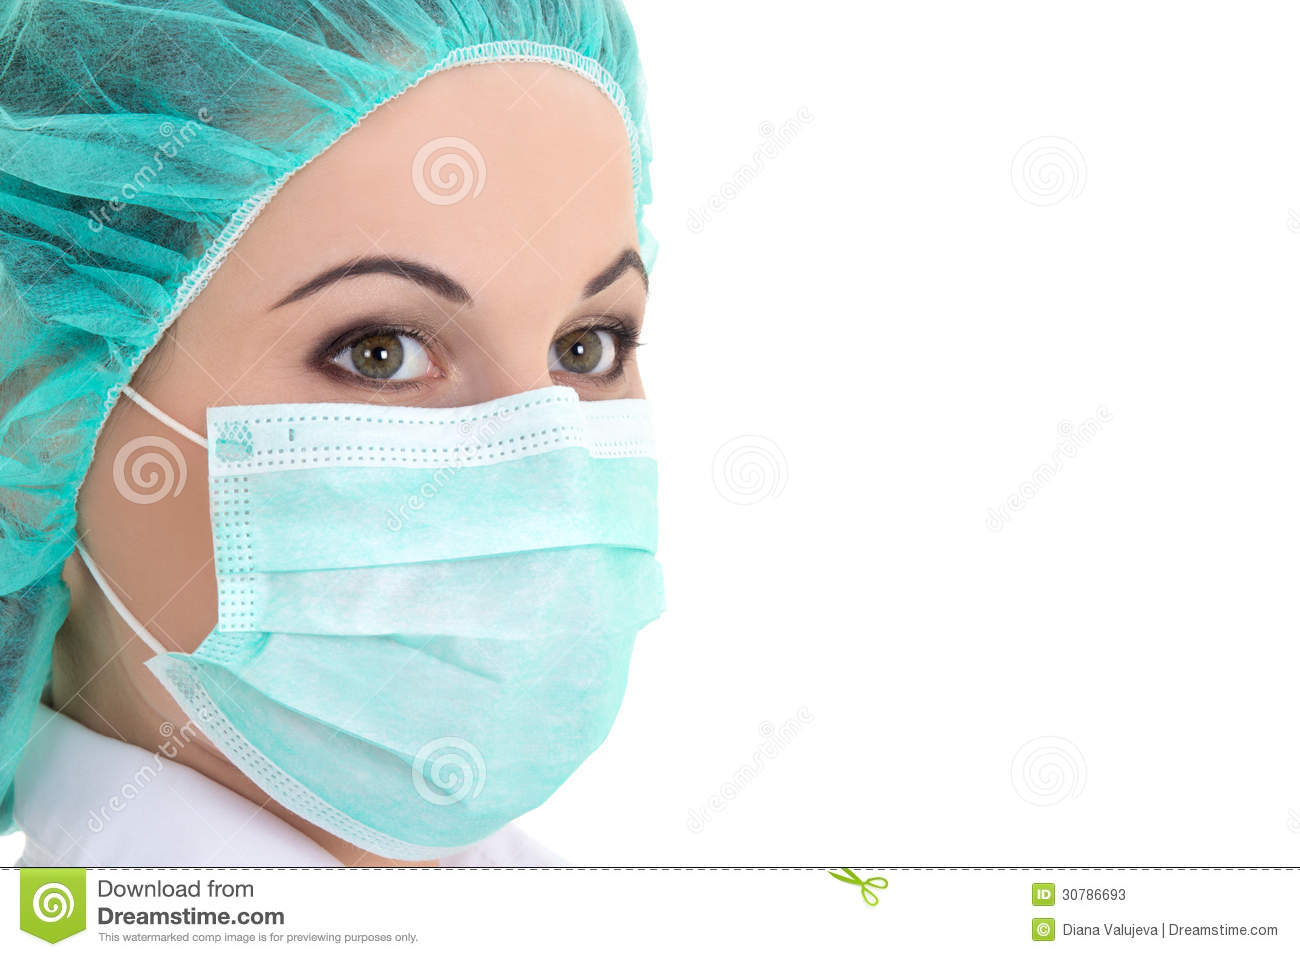mask: (198, 377, 675, 845)
